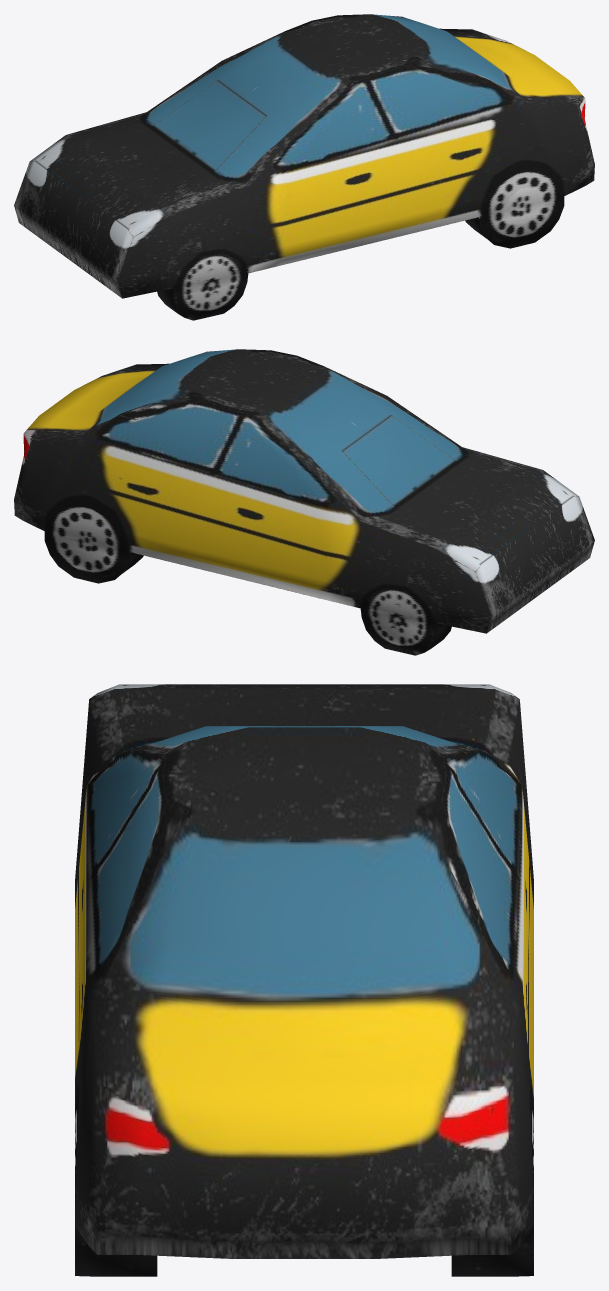
Rendered from oneTaxi2.fbx.
The picture shows the model from 3 angles, top to bottom: view 1: azimuth 30°, elevation 25°; view 2: azimuth 150°, elevation 25°; view 3: azimuth 270°, elevation 25°; orthographic projection. The views are drawn at different scales.
Visible parts, largest first — view 1: Cube.1290; view 2: Cube.1290; view 3: Cube.1290.
Part boxes in pixels (x1=…): Cube.1290: x1=14, y1=14, x2=594, y2=320; Cube.1290: x1=14, y1=349, x2=594, y2=655; Cube.1290: x1=75, y1=684, x2=533, y2=1276.
Bounding box in the file's own units: 64.89 × 23.74 × 26.5.
Materials: 1 (1 with a texture image).
